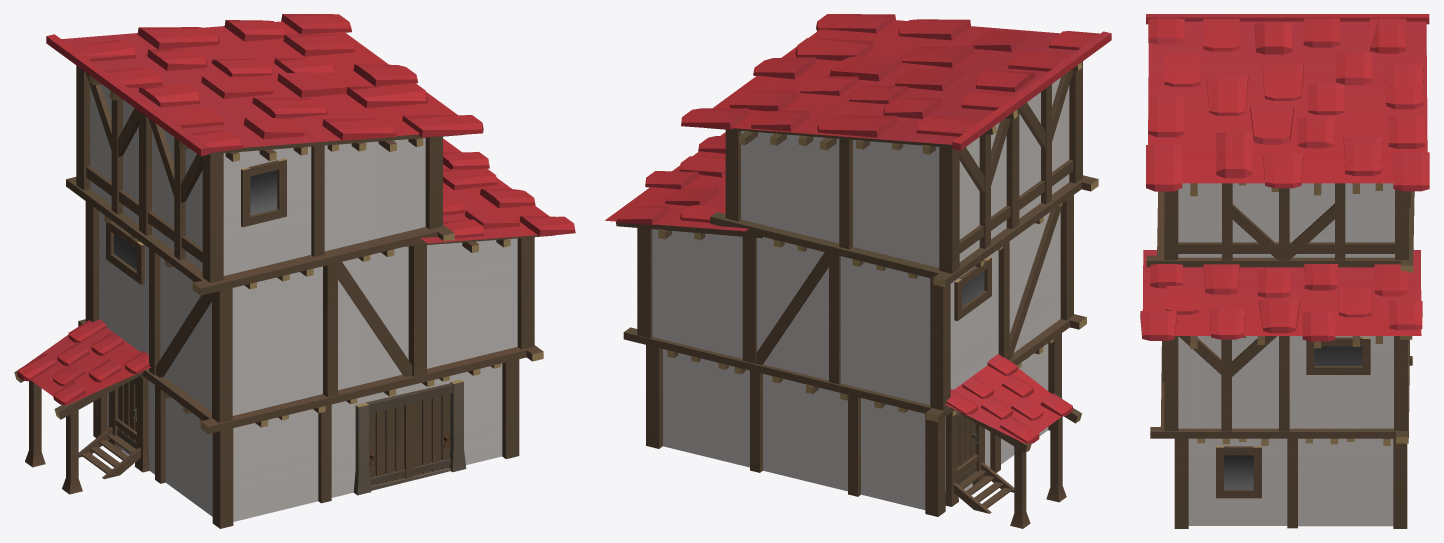
The model's file is House_9.fbx.
3 renders of one model, left to right at view 1: azimuth 30°, elevation 25°; view 2: azimuth 150°, elevation 25°; view 3: azimuth 270°, elevation 25°, orthographic. The views are drawn at different scales.
Visible parts, largest first — view 1: polySurface9618; view 2: polySurface9618; view 3: polySurface9618.
Boxes of the visible parts, x1=… form: polySurface9618: x1=14, y1=14, x2=575, y2=528; polySurface9618: x1=605, y1=14, x2=1111, y2=528; polySurface9618: x1=1140, y1=14, x2=1429, y2=528.
Bounding box in the file's own units: 1137 × 1002 × 718.
